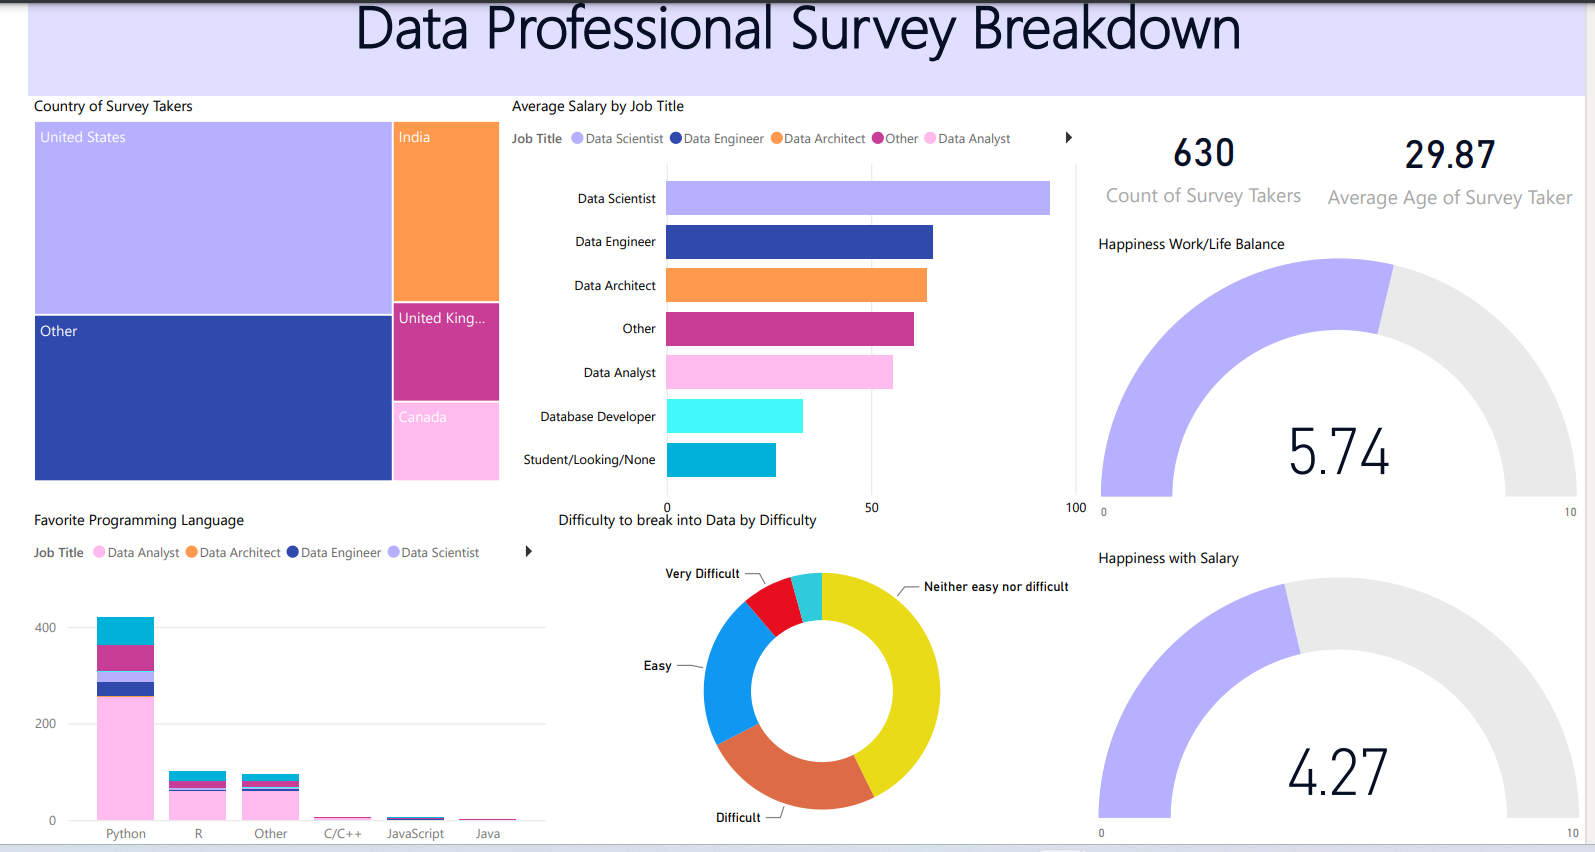

The dashboard page shown, as its layout file describes it:
{"tool":"powerbi","page":{"name":"Page 1","canvas":[1280,720],"ordinal":0},"visuals":[{"type":"textbox","box":[0,0,1280,97.2],"z":0},{"type":"card","fields":{"Values":["Count(Data Professional Survey.Unique ID)"]},"box":[874.5,96.8,183.1,110.4],"z":1},{"type":"card","fields":{"Values":["Avg(Data Professional Survey.Q10 - Current Age)"]},"box":[1057.6,96.8,222.4,113.5],"z":2},{"type":"barChart","title":"Average Salary by Job Title ","fields":{"Category":["Data Professional Survey.Q1 - Which Title Best Fits your Current Role?.1"],"Y":["Avg(Data Professional Survey.Average Salary)"],"Series":["Data Professional Survey.Q1 - Which Title Best Fits your Current Role?.1"]},"box":[393.4,96.8,481.1,355.6],"z":3},{"type":"columnChart","title":"Favorite Programming Language","fields":{"Category":["Data Professional Survey.Q5 - Favorite Programming Language.1"],"Y":["CountNonNull(Data Professional Survey.Unique ID)"],"Series":["Data Professional Survey.Q1 - Which Title Best Fits your Current Role?.1"]},"box":[0,437.3,431.2,282.9],"z":4},{"type":"treemap","title":"Country of Survey Takers","fields":{"Group":["Data Professional Survey.Q11 - Which Country do you live in?.1"],"Values":["CountNonNull(Data Professional Survey.Q11 - Which Country do you live in?.1)"]},"box":[0,96.8,393.4,322.3],"z":5},{"type":"gauge","title":"Happiness with Salary","fields":{"Y":["Avg(Data Professional Survey.Q6 - How Happy are you in your Current Position with the following? (Salary))"],"MinValue":["Min(Data Professional Survey.Q6 - How Happy are you in your Current Position with the following? (Salary))"],"MaxValue":["Max(Data Professional Survey.Q6 - How Happy are you in your Current Position with the following? (Salary))"]},"box":[874.5,467.5,405.5,252.7],"z":6},{"type":"gauge","title":"Happiness Work/Life Balance","fields":{"Y":["Avg(Data Professional Survey.Q6 - How Happy are you in your Current Position with the following? (Work/Life Balance))"],"MinValue":["Min(Data Professional Survey.Q6 - How Happy are you in your Current Position with the following? (Work/Life Balance))"],"MaxValue":["Max(Data Professional Survey.Q6 - How Happy are you in your Current Position with the following? (Work/Life Balance))1"]},"box":[874.5,210.3,405.5,242.1],"z":7},{"type":"donutChart","fields":{"Y":["CountNonNull(Data Professional Survey.Average Salary)"],"Category":["Data Professional Survey.Q7 - How difficult was it for you to break into Data?"]},"box":[431.2,437.3,443.3,282.9],"z":8}]}

Visuals, with their boxes on the page's 1280x720 design canvas (x1, y1, x2, y2). These are canvas units, not pixel positions in the 1595x852 screenshot, which may show the page scaled, cropped or inside an application window:
textbox: box(0, 0, 1280, 97)
card - Count(Data Professional Survey.Unique ID): box(874, 97, 1058, 207)
card - Avg(Data Professional Survey.Q10 - Current Age): box(1058, 97, 1280, 210)
"Average Salary by Job Title " barChart: box(393, 97, 874, 452)
"Favorite Programming Language" columnChart: box(0, 437, 431, 720)
"Country of Survey Takers" treemap: box(0, 97, 393, 419)
"Happiness with Salary" gauge: box(874, 468, 1280, 720)
"Happiness Work/Life Balance" gauge: box(874, 210, 1280, 452)
donutChart - CountNonNull(Data Professional Survey.Average Salary) x Data Professional Survey.Q7 - How difficult was it for you to break into Data?: box(431, 437, 874, 720)
